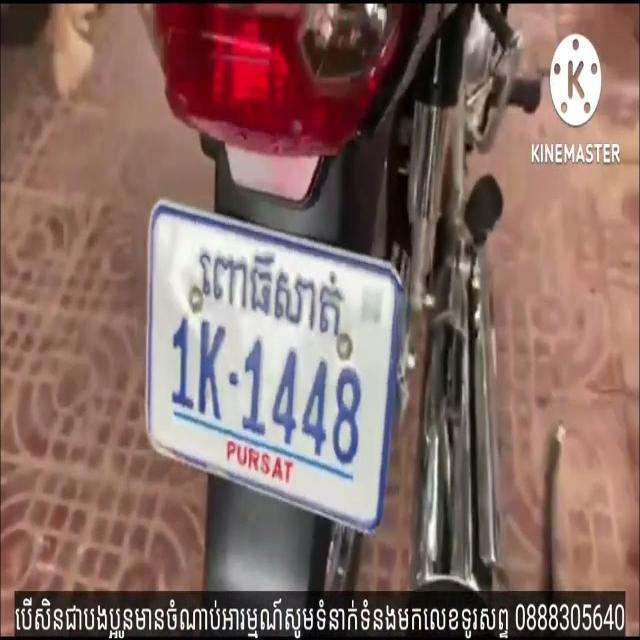Pursat: (201, 242, 346, 348)
